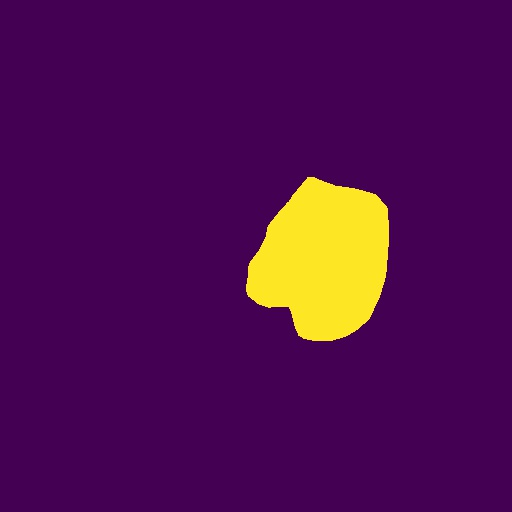Gliomia_tumour: (246, 177, 389, 341)
